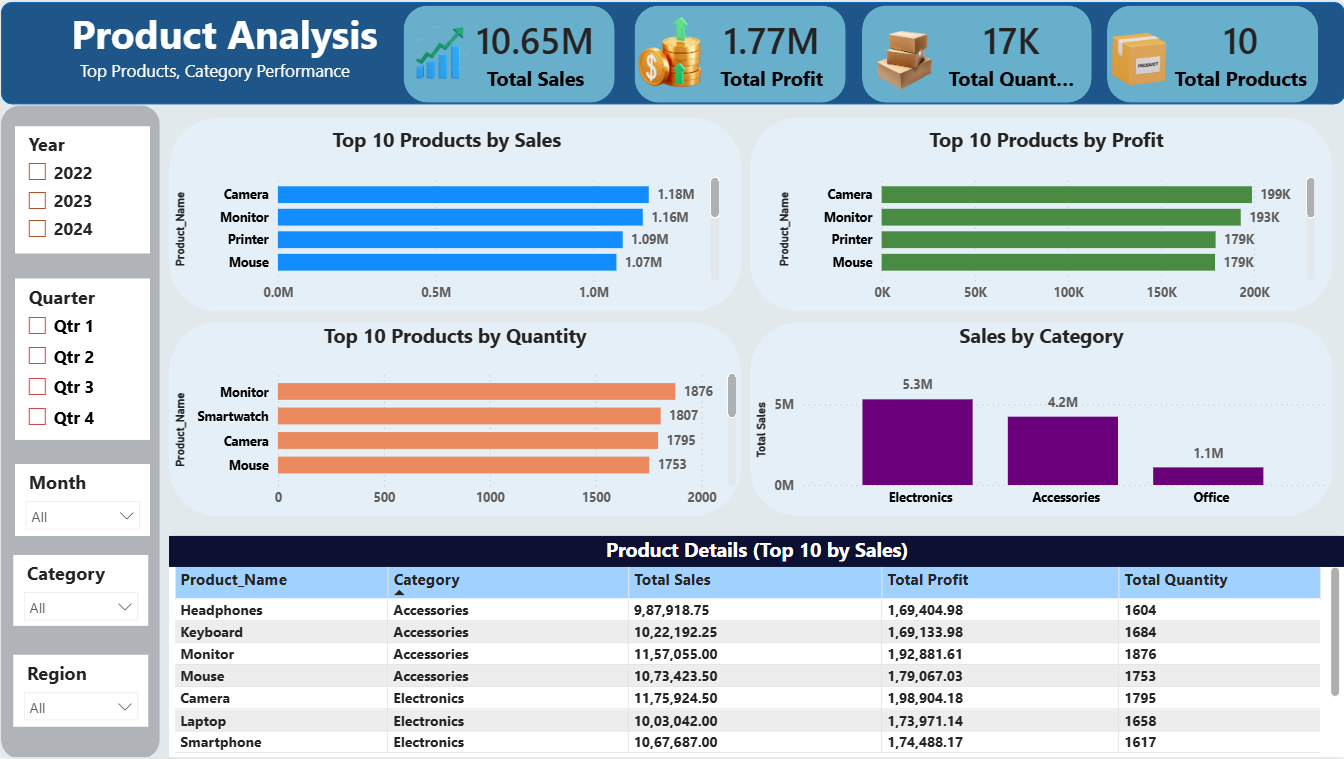

The page's visual inventory and layout, read from the dashboard file:
{"tool":"powerbi","page":{"name":"Product Performance","canvas":[1280,720],"ordinal":2},"visuals":[{"type":"shape","box":[713.8,110,555,185],"z":0},{"type":"shape","box":[713.8,305,555,185],"z":1000},{"type":"shape","box":[160,305,545,185],"z":2000},{"type":"shape","box":[160,110,545,185],"z":3000},{"type":"shape","box":[0,97.5,151.2,622.5],"z":4000},{"type":"clusteredBarChart","title":"Top 10 Products by Sales","fields":{"Category":["data_clean.Product_Name"],"Y":["data_clean.Total Sales"]},"box":[160,118.8,528.8,176.2],"z":5000},{"type":"clusteredBarChart","title":"Top 10 Products by Profit","fields":{"Category":["data_clean.Product_Name"],"Y":["data_clean.Total Profit"]},"box":[735,118.8,521.2,176.2],"z":6000},{"type":"clusteredBarChart","title":"Top 10 Products by Quantity","fields":{"Category":["data_clean.Product_Name"],"Y":["data_clean.Total Quantity"]},"box":[160,305,545,185],"z":7000},{"type":"clusteredColumnChart","title":"Sales by Category","fields":{"Category":["data_clean.Category"],"Y":["data_clean.Total Sales"]},"box":[713.8,305,555,185],"z":8000},{"type":"shape","box":[0,0,1280,97.5],"z":9000},{"type":"textbox","box":[0,0,1256.2,97.5],"z":10000},{"type":"shape","box":[383.8,2.5,201.2,92.5],"z":11000},{"type":"image","box":[370,23.8,96.2,50],"z":12000},{"type":"cardVisual","fields":{"Data":["data_clean.Total Sales"]},"box":[422.5,0,171.2,97.5],"z":13000},{"type":"shape","box":[603.8,2.5,201.2,92.5],"z":14000},{"type":"shape","box":[820,2.5,218.8,92.5],"z":15000},{"type":"shape","box":[1052.5,2.5,201.2,92.5],"z":16000},{"type":"cardVisual","fields":{"Data":["data_clean.Total Profit"]},"box":[655,0,158.8,97.5],"z":17000},{"type":"image","box":[603.8,11.2,73.3,73.3],"z":18000},{"type":"cardVisual","fields":{"Data":["data_clean.Total Quantity"]},"box":[873.8,0,178.8,97.5],"z":19000},{"type":"image","box":[797.5,21.2,123.8,65],"z":20000},{"type":"cardVisual","fields":{"Data":["data_clean.Total Products"]},"box":[1081.2,0,198.8,97.5],"z":21000},{"type":"image","box":[1038.8,21.2,92.5,63.8],"z":22000},{"type":"slicer","fields":{"Values":["data_clean.Year"]},"box":[12.5,118.8,128.8,121.2],"z":23000},{"type":"slicer","fields":{"Values":["data_clean.Order_date.Variation.Date Hierarchy.Quarter"]},"box":[13.8,263.8,128.8,153.8],"z":24000},{"type":"slicer","fields":{"Values":["data_clean.Order_date.Variation.Date Hierarchy.Month"]},"box":[12.5,440,128.8,68.8],"z":25000},{"type":"slicer","fields":{"Values":["data_clean.Category"]},"box":[11.2,526.2,128.8,67.5],"z":26000},{"type":"slicer","fields":{"Values":["data_clean.Region"]},"box":[11.2,621.2,128.8,68.8],"z":27000},{"type":"tableEx","title":"Product Details (Top 10 by Sales)","fields":{"Values":["data_clean.Product_Name","data_clean.Category","data_clean.Total Sales","data_clean.Total Profit","data_clean.Total Quantity"]},"box":[160,508.8,1120,211.2],"z":28000}]}

Visuals, with their boxes in screenshot pixels (x1, y1, x2, y2), scaled from the page's 1280x720 canvas onto the 1344x759 screenshot:
shape: (749, 116, 1332, 311)
shape: (749, 322, 1332, 517)
shape: (168, 322, 740, 517)
shape: (168, 116, 740, 311)
shape: (0, 103, 159, 758)
"Top 10 Products by Sales" clusteredBarChart: (168, 125, 723, 311)
"Top 10 Products by Profit" clusteredBarChart: (772, 125, 1319, 311)
"Top 10 Products by Quantity" clusteredBarChart: (168, 322, 740, 517)
"Sales by Category" clusteredColumnChart: (749, 322, 1332, 517)
shape: (0, 0, 1343, 103)
textbox: (0, 0, 1319, 103)
shape: (403, 3, 614, 100)
image: (388, 25, 490, 78)
cardVisual - data_clean.Total Sales: (444, 0, 623, 103)
shape: (634, 3, 845, 100)
shape: (861, 3, 1091, 100)
shape: (1105, 3, 1316, 100)
cardVisual - data_clean.Total Profit: (688, 0, 854, 103)
image: (634, 12, 711, 89)
cardVisual - data_clean.Total Quantity: (917, 0, 1105, 103)
image: (837, 22, 967, 91)
cardVisual - data_clean.Total Products: (1135, 0, 1343, 103)
image: (1091, 22, 1188, 90)
slicer - data_clean.Year: (13, 125, 148, 253)
slicer - data_clean.Order_date.Variation.Date Hierarchy.Quarter: (14, 278, 150, 440)
slicer - data_clean.Order_date.Variation.Date Hierarchy.Month: (13, 464, 148, 536)
slicer - data_clean.Category: (12, 555, 147, 626)
slicer - data_clean.Region: (12, 655, 147, 727)
"Product Details (Top 10 by Sales)" tableEx: (168, 536, 1343, 758)
